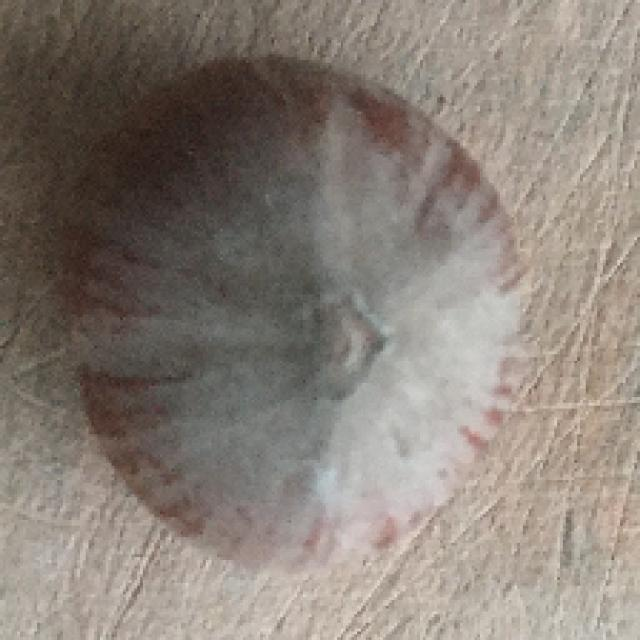qualityHazelnut: (52, 51, 526, 573)
